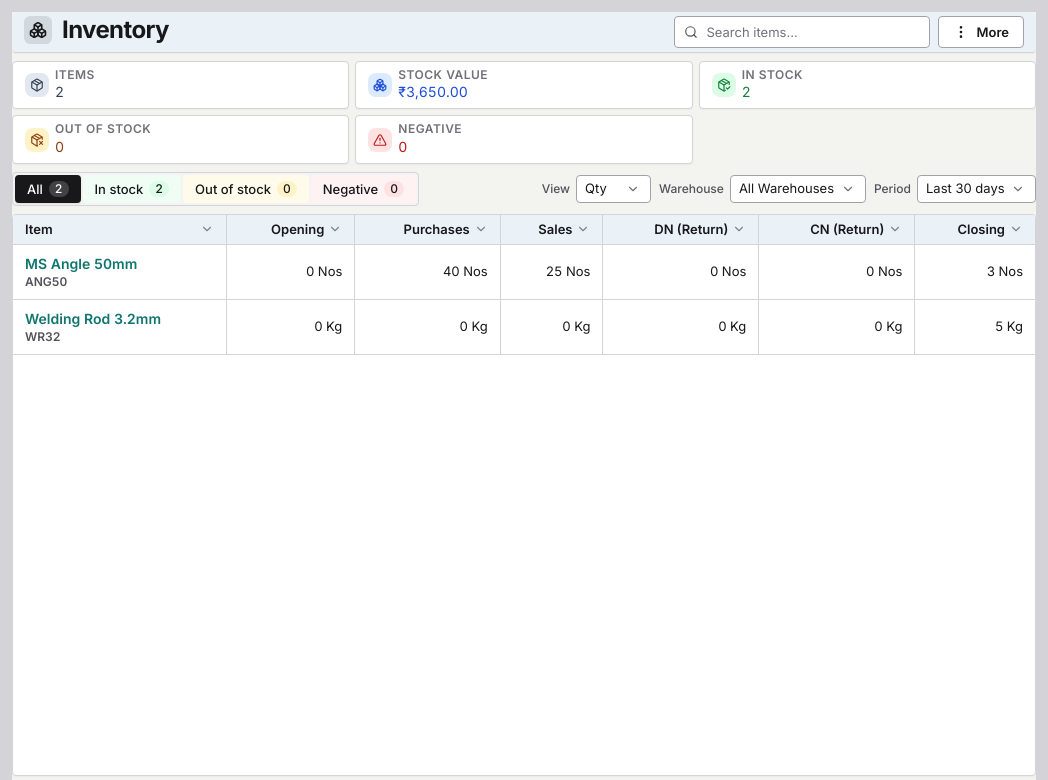
Test: the inventory filter band › lets the custom dates wrap without taking the Period label with them
Select "Custom" in the dropdown with id "inv-period" at (976, 189), box [917,175,1036,203]
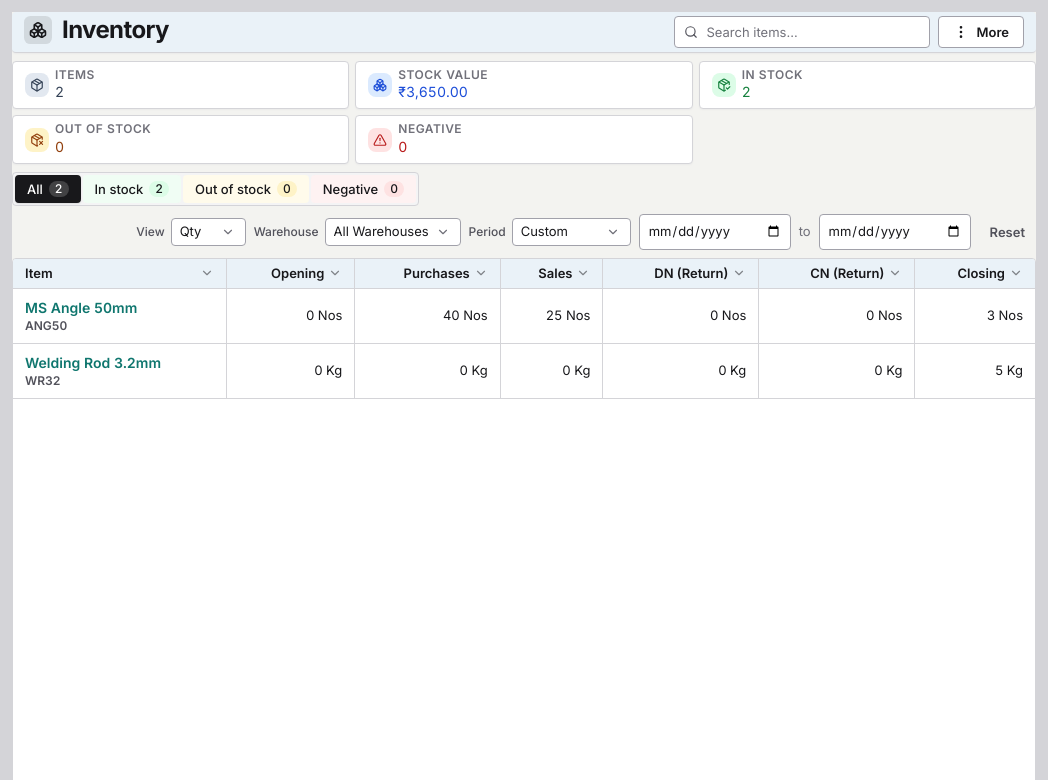
Check: the date field named "From date" is shown, box [639,214,791,250]
Check: the date field named "To date" is shown, box [819,214,971,250]
